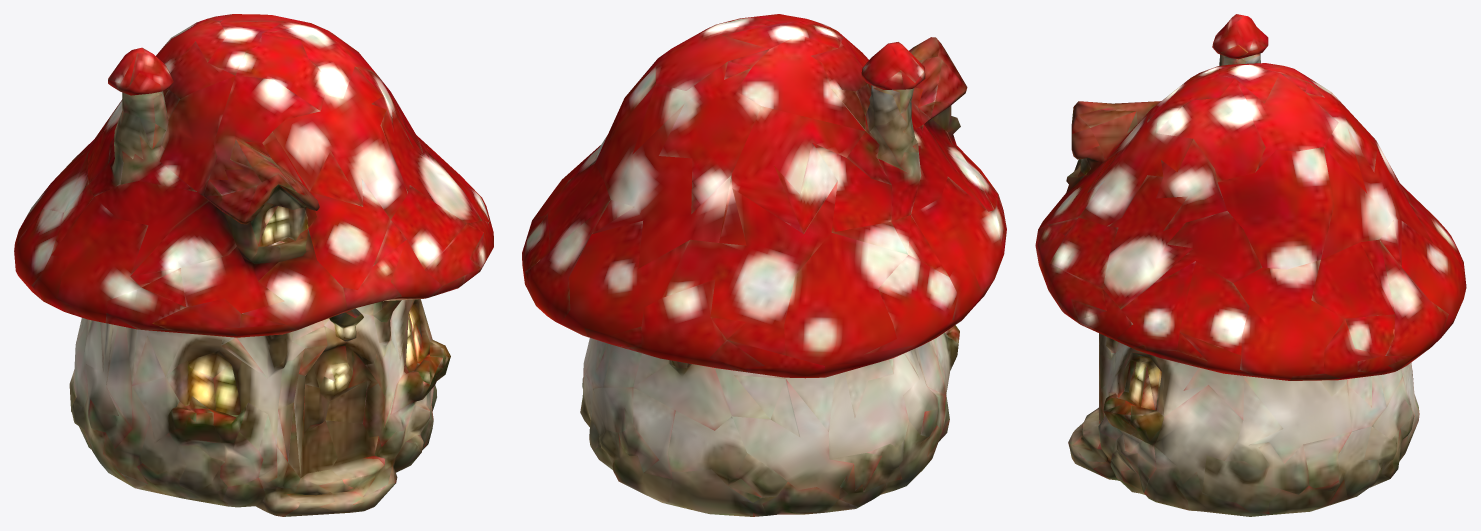
File: mushroom-hut.glb
3 renders of one model, left to right at view 1: azimuth 30°, elevation 25°; view 2: azimuth 150°, elevation 25°; view 3: azimuth 270°, elevation 25°, orthographic. The views are drawn at different scales.
Visible parts, largest first — view 1: Mesh_0.001; view 2: Mesh_0.001; view 3: Mesh_0.001.
Boxes of the visible parts, <box> form: Mesh_0.001: <box>14,14,493,516</box>; Mesh_0.001: <box>522,14,1006,516</box>; Mesh_0.001: <box>1035,14,1466,516</box>.
Size of the model in its own units: 1.92 by 1.91 by 1.92.
Materials: 1 (1 with a texture image).
